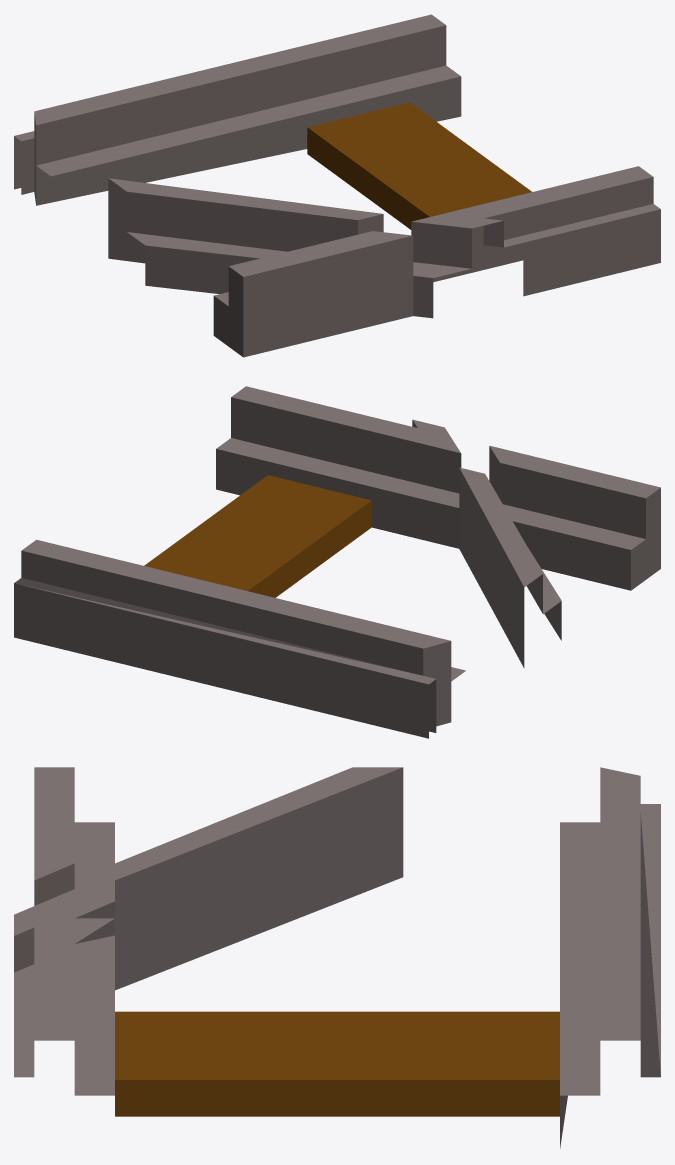
3 views of the same model, one above another, from view 1: azimuth 30°, elevation 25°; view 2: azimuth 150°, elevation 25°; view 3: azimuth 270°, elevation 25° (orthographic). The views are drawn at different scales.
Bounding box in the file's own units: 1 × 0.1875 × 1.
